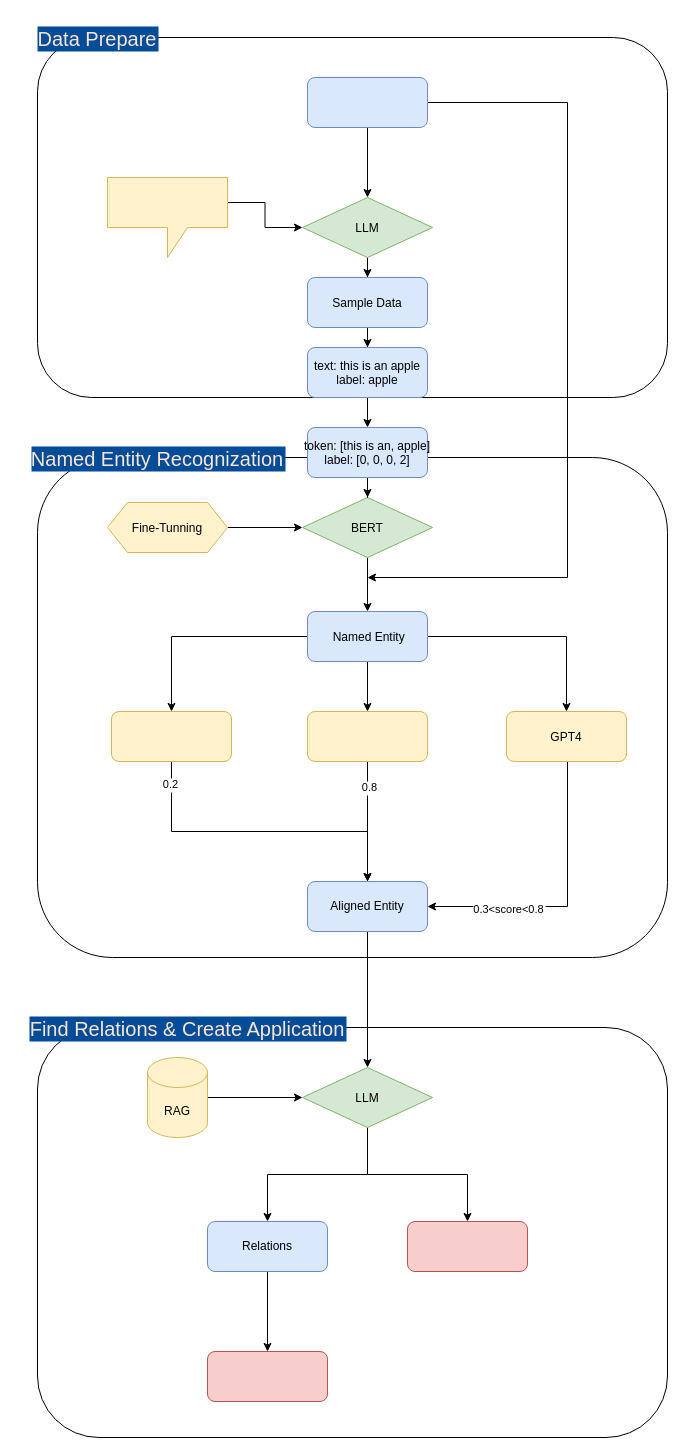
Image size: 685x1455. Some labels were removed from this diagram. The shapes that lost their labels are listed below. From the top down, each one's box as (x1, y1, x2, y2) in pixels, then its label:
(306, 76, 428, 128): Book Data
(106, 176, 228, 258): In-Context Learning
(110, 710, 232, 762): Levenshtein Distance
(306, 710, 428, 762): Transfomer Sentence Embedding
(406, 1220, 528, 1272): Question-Answer
(206, 1350, 328, 1402): Knowledge Graph
